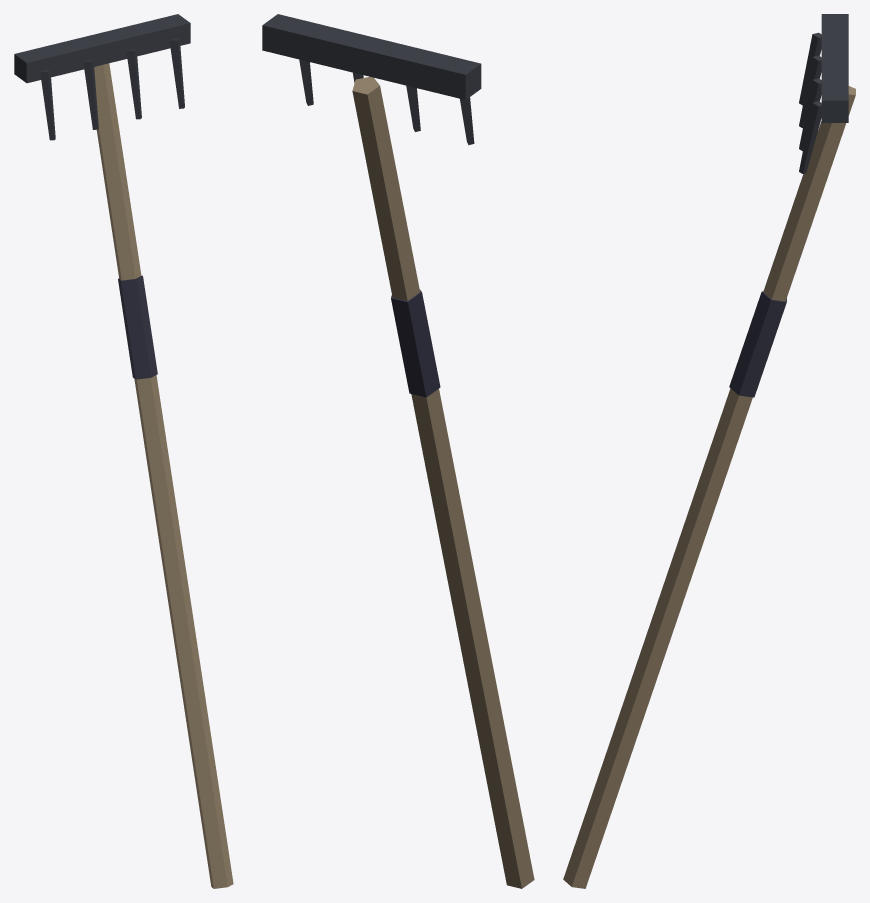
The model's file is clamp_rake.glb.
3 views of the same model, side by side, from view 1: azimuth 30°, elevation 25°; view 2: azimuth 150°, elevation 25°; view 3: azimuth 270°, elevation 25° (orthographic). The views are drawn at different scales.
Parts seen in each view (by area): view 1: driftwood_d25, slate_d45, ink_l12; view 2: driftwood_d25, slate_d45, ink_l12; view 3: driftwood_d25, slate_d45, ink_l12.
Part boxes in pixels (x1,y1,x2,y2): driftwood_d25: (94, 63, 233, 888); slate_d45: (14, 14, 190, 140); ink_l12: (118, 275, 157, 379); driftwood_d25: (352, 77, 534, 888); slate_d45: (262, 14, 481, 145); ink_l12: (391, 289, 440, 397); driftwood_d25: (563, 86, 855, 888); slate_d45: (799, 14, 848, 173); ink_l12: (729, 291, 786, 397).
Size of the model in its own units: 0.38 by 1.69 by 0.5415.
